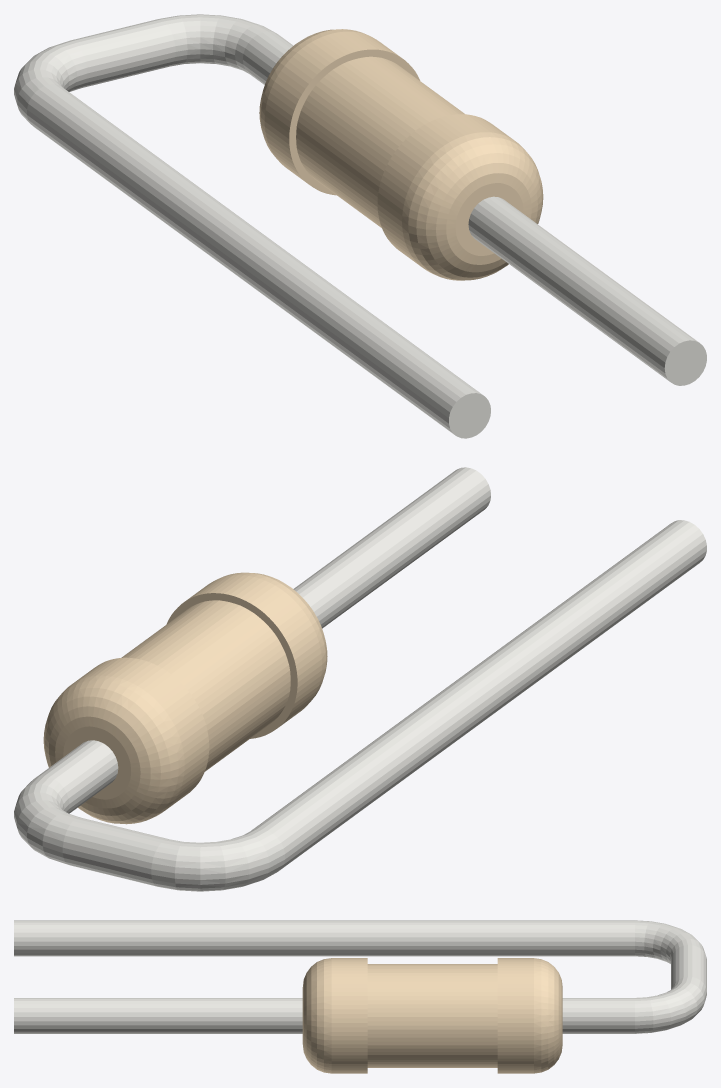
File: R_Axial_DIN0204_L3.6mm_D1.6mm_P2.54mm_Vertical.glb
The picture shows the model from 3 angles, top to bottom: view 1: azimuth 30°, elevation 25°; view 2: azimuth 150°, elevation 25°; view 3: azimuth 270°, elevation 25°; orthographic projection. The views are drawn at different scales.
Parts seen in each view (by area): view 1: Shape_IndexedFaceSet.015, Shape_IndexedFaceSet.004, Shape_IndexedFaceSet.005, Shape_IndexedFaceSet.001, Shape_IndexedFaceSet, Shape_IndexedFaceSet.008, Shape_IndexedFaceSet.013, Shape_IndexedFaceSet.012, Shape_IndexedFaceSet.014, Shape_IndexedFaceSet.006, Shape_IndexedFaceSet.003, Shape_IndexedFaceSet.011 (+3 smaller); view 2: Shape_IndexedFaceSet.015, Shape_IndexedFaceSet.004, Shape_IndexedFaceSet.009, Shape_IndexedFaceSet.005, Shape_IndexedFaceSet.014, Shape_IndexedFaceSet, Shape_IndexedFaceSet.008, Shape_IndexedFaceSet.013, Shape_IndexedFaceSet.012, Shape_IndexedFaceSet.011, Shape_IndexedFaceSet.002, Shape_IndexedFaceSet.010 (+1 smaller); view 3: Shape_IndexedFaceSet.015, Shape_IndexedFaceSet.004, Shape_IndexedFaceSet.005, Shape_IndexedFaceSet, Shape_IndexedFaceSet.008, Shape_IndexedFaceSet.001, Shape_IndexedFaceSet.009, Shape_IndexedFaceSet.012, Shape_IndexedFaceSet.011, Shape_IndexedFaceSet.014, Shape_IndexedFaceSet.013.
Part boxes in pixels (x1,y1,x2,y2): Shape_IndexedFaceSet.015: (27,84,483,434); Shape_IndexedFaceSet.004: (296,56,464,227); Shape_IndexedFaceSet.005: (468,196,698,381); Shape_IndexedFaceSet.001: (402,132,543,280); Shape_IndexedFaceSet: (377,114,513,266); Shape_IndexedFaceSet.008: (264,31,401,183); Shape_IndexedFaceSet.013: (70,19,175,87); Shape_IndexedFaceSet.012: (159,14,276,73); Shape_IndexedFaceSet.014: (14,40,87,123); Shape_IndexedFaceSet.006: (289,49,420,195); Shape_IndexedFaceSet.003: (455,183,523,255); Shape_IndexedFaceSet.011: (243,31,293,84); Shape_IndexedFaceSet.015: (251,520,706,870); Shape_IndexedFaceSet.004: (121,600,290,771); Shape_IndexedFaceSet.009: (43,675,184,824); Shape_IndexedFaceSet.005: (293,467,490,628); Shape_IndexedFaceSet.014: (151,829,284,891); Shape_IndexedFaceSet: (185,575,322,726); Shape_IndexedFaceSet.008: (73,657,209,809); Shape_IndexedFaceSet.013: (62,817,168,886); Shape_IndexedFaceSet.012: (14,776,80,864); Shape_IndexedFaceSet.011: (35,740,118,813); Shape_IndexedFaceSet.002: (166,593,297,738); Shape_IndexedFaceSet.010: (63,726,130,799); Shape_IndexedFaceSet.015: (14,920,634,956); Shape_IndexedFaceSet.004: (367,964,497,1067); Shape_IndexedFaceSet.005: (14,998,302,1033); Shape_IndexedFaceSet: (331,958,367,1073); Shape_IndexedFaceSet.008: (497,958,533,1073); Shape_IndexedFaceSet.001: (302,958,331,1073); Shape_IndexedFaceSet.009: (534,958,562,1073); Shape_IndexedFaceSet.012: (635,976,706,1033); Shape_IndexedFaceSet.011: (562,998,634,1033); Shape_IndexedFaceSet.014: (635,920,705,963); Shape_IndexedFaceSet.013: (671,945,706,989).
Size of the model in its own units: 1.41 by 0.63 by 3.78.
